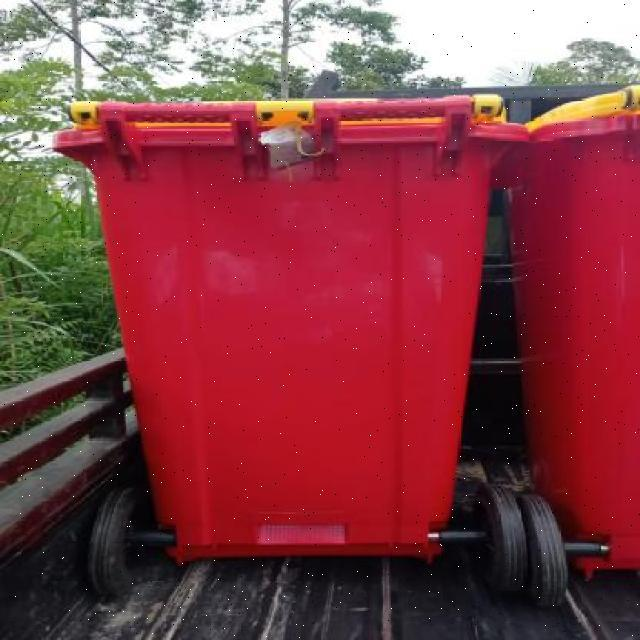garbage container: (49, 89, 538, 622)
